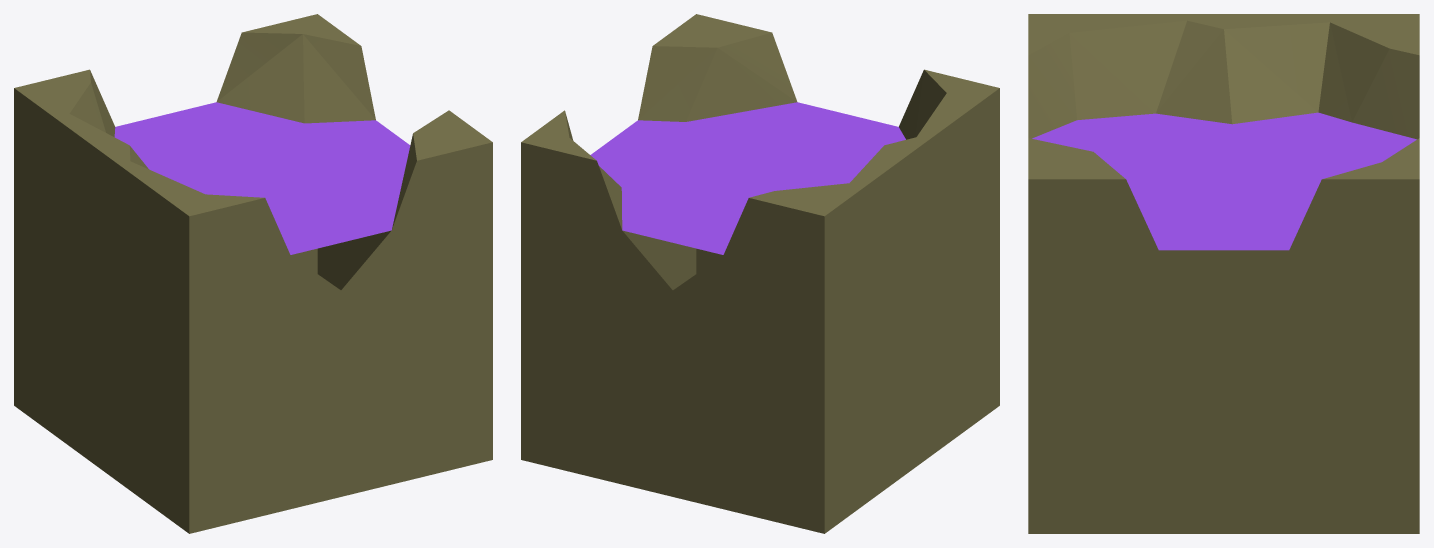
File: tile_toxic_deep2_5_01.fbx
3 views of the same model, side by side, from view 1: azimuth 30°, elevation 25°; view 2: azimuth 150°, elevation 25°; view 3: azimuth 270°, elevation 25° (orthographic). The views are drawn at different scales.
Parts seen in each view (by area): view 1: tile_toxic_deep2_5_01; view 2: tile_toxic_deep2_5_01; view 3: tile_toxic_deep2_5_01.
Part boxes in pixels (x1,y1,x2,y2): tile_toxic_deep2_5_01: (14,14,492,533); tile_toxic_deep2_5_01: (521,14,999,533); tile_toxic_deep2_5_01: (1028,14,1419,533).
Bounding box in the file's own units: 100 × 100 × 100.
